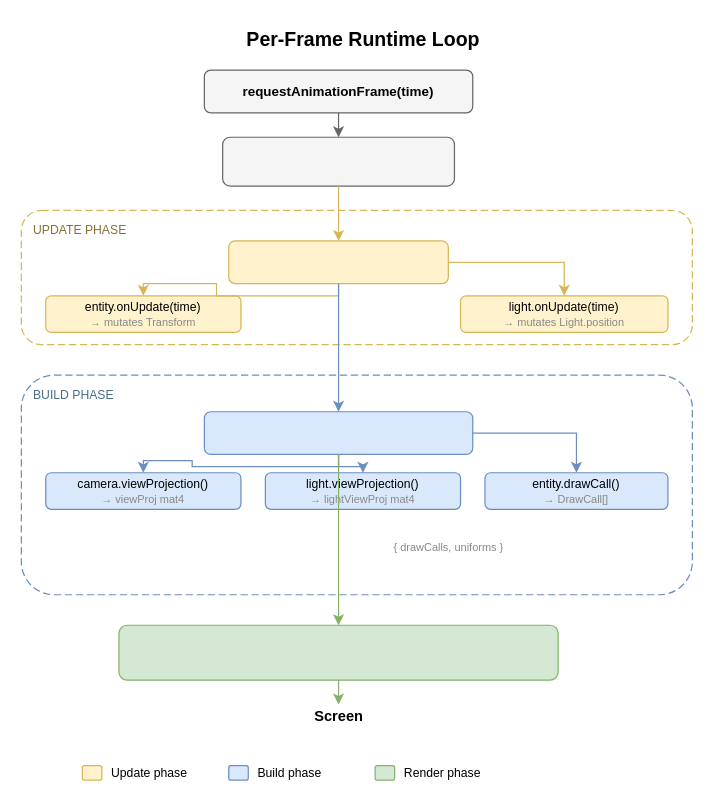
Some shapes in this 714 by 805 pixel diagram are drawn without their labels. The shapes that lost their labels are listed below. From the top down, each one's box as (x1, y1, x2, y2) in pixels, then its label:
(221, 136, 454, 186): renderer.resize() sync canvas to display size
(228, 240, 448, 284): scene.update(time)
(203, 411, 473, 454): scene.buildFrame(aspect)
(118, 624, 558, 680): renderer.renderFrame(drawCalls, uniforms, options) 6-pass deferred pipeline
